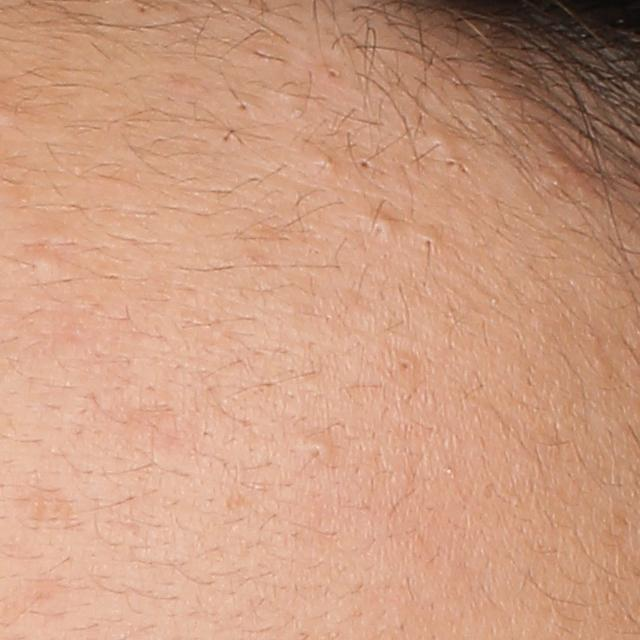comedo: (23, 249, 61, 284), (419, 124, 454, 157), (364, 212, 398, 243), (391, 351, 419, 380), (305, 435, 336, 461), (313, 152, 339, 176), (231, 94, 255, 118), (419, 233, 443, 253), (354, 155, 375, 174), (444, 154, 462, 173), (325, 65, 344, 83)
